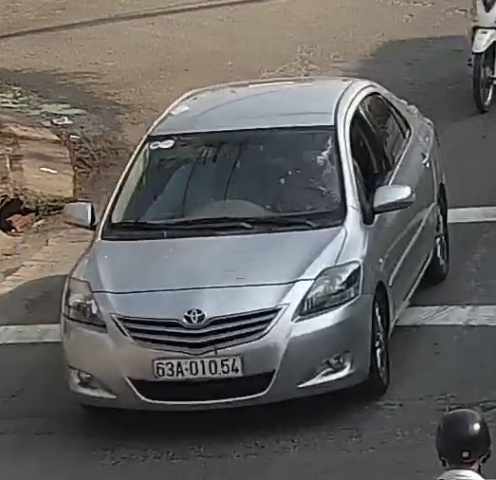vehicle plate: (147, 357, 254, 382)
